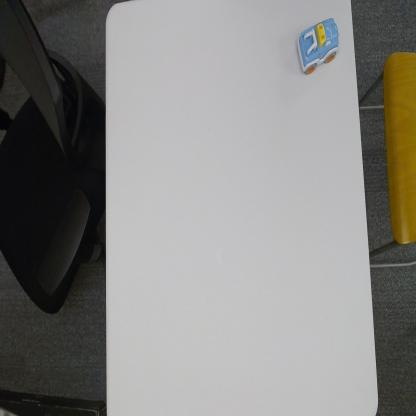Car: (296, 15, 340, 77)
